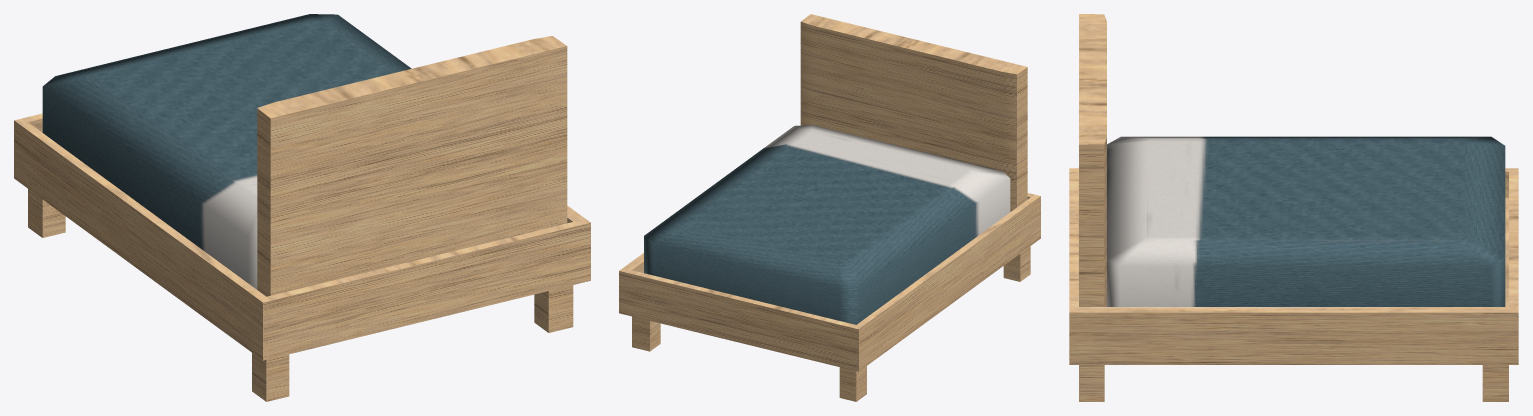
Rendered from bed.fbx.
3 renders of one model, left to right at view 1: azimuth 30°, elevation 25°; view 2: azimuth 150°, elevation 25°; view 3: azimuth 270°, elevation 25°, orthographic. The views are drawn at different scales.
Visible parts, largest first — view 1: pCube1; view 2: pCube1; view 3: pCube1.
Part boxes in pixels (x1,y1,x2,y2): pCube1: [14, 14, 590, 401]; pCube1: [619, 14, 1040, 401]; pCube1: [1069, 14, 1518, 401].
Size of the model in its own units: 136 by 179 by 112.
1 material, 1 textured.
